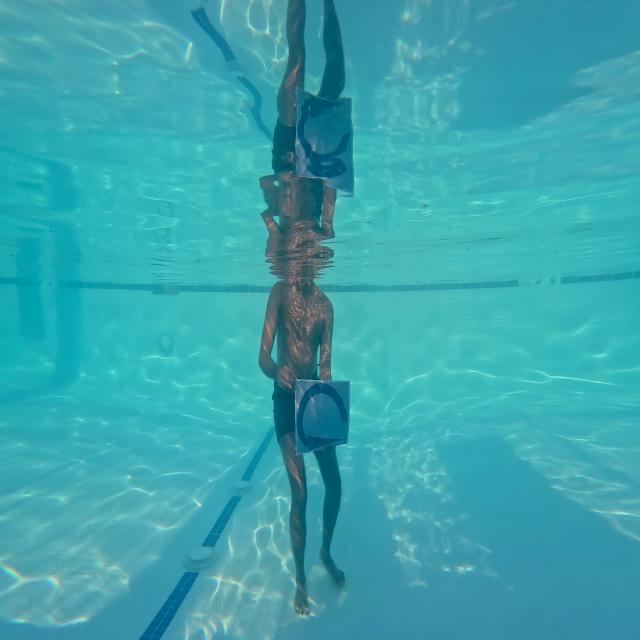blue_side: (295, 378, 349, 456)
